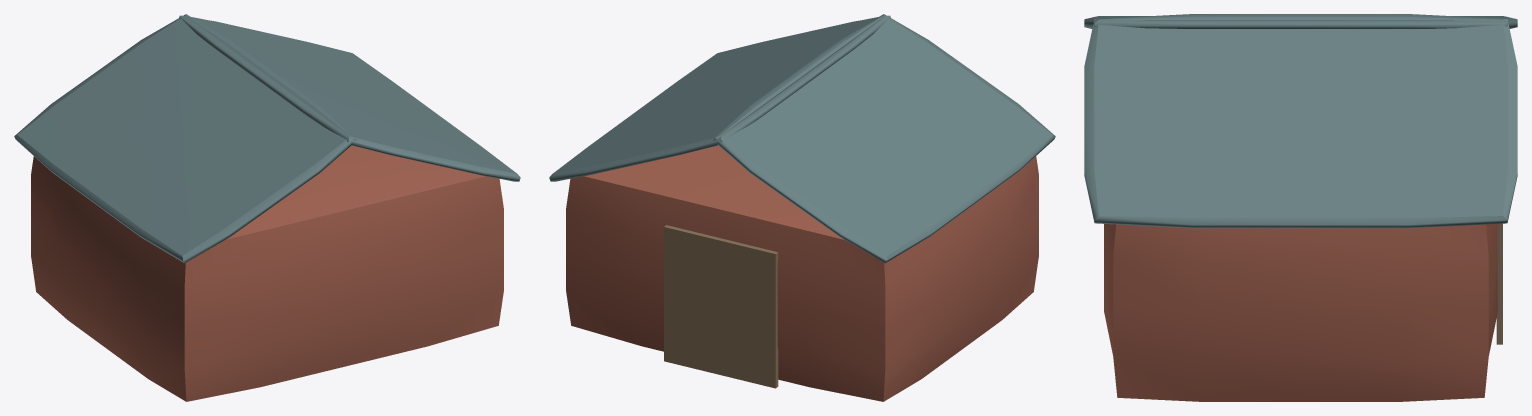
Rendered from small_barn.glb.
The picture shows the model from 3 angles, left to right: view 1: azimuth 30°, elevation 25°; view 2: azimuth 150°, elevation 25°; view 3: azimuth 270°, elevation 25°; orthographic projection. The views are drawn at different scales.
Parts seen in each view (by area): view 1: walls, static_roof_blue; view 2: walls, static_roof_blue, door; view 3: static_roof_blue, walls, door.
Part boxes in pixels (left/top/right/bottom): walls: left=31, top=145, right=503, bottom=401; static_roof_blue: left=14, top=14, right=520, bottom=263; walls: left=566, top=145, right=1038, bottom=401; static_roof_blue: left=549, top=14, right=1055, bottom=263; door: left=664, top=225, right=778, bottom=388; static_roof_blue: left=1084, top=14, right=1517, bottom=228; walls: left=1104, top=224, right=1497, bottom=401; door: left=1496, top=223, right=1502, bottom=344.
Bounding box in the file's own units: 6.2 × 4.1 × 5.5.
